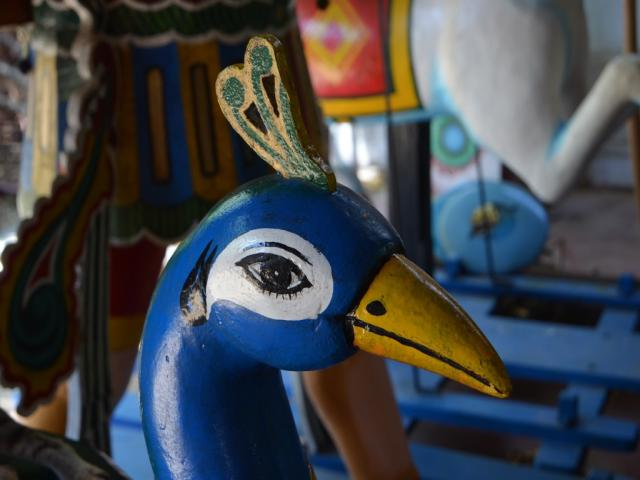Bird: (0, 30, 517, 480)
